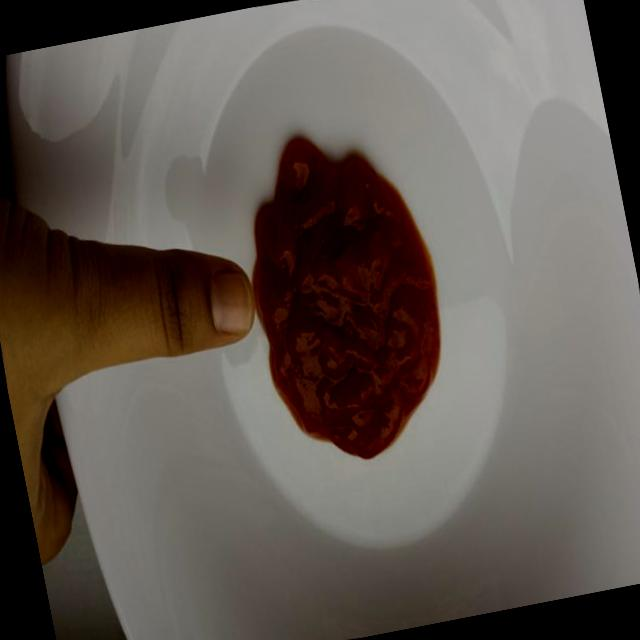Sauce: (215, 107, 489, 490)
